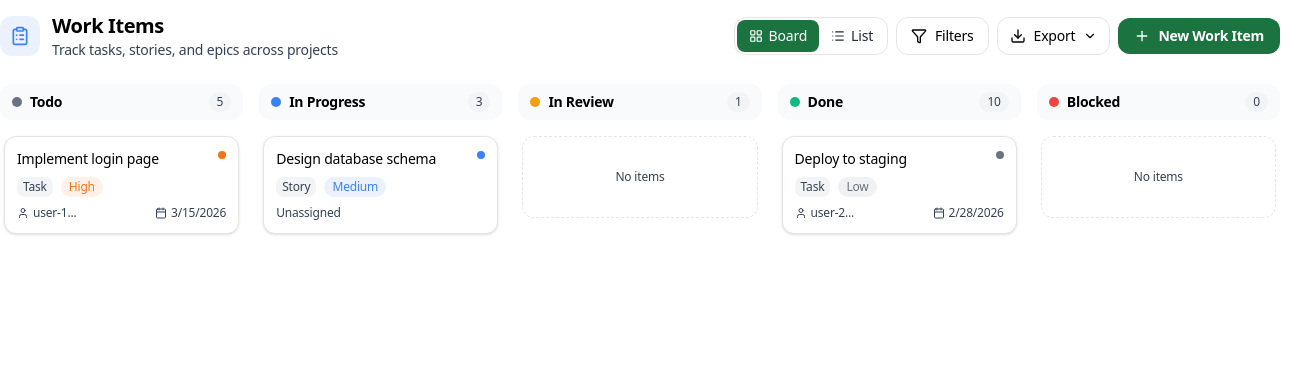
Test case: WorkItemsPage › filters › toggles filter panel when Filters button is clicked
Expected: the text "Priority" is not shown
Note: Click Filters
Click the button "Filters" at (942, 36), box [896, 17, 988, 55]
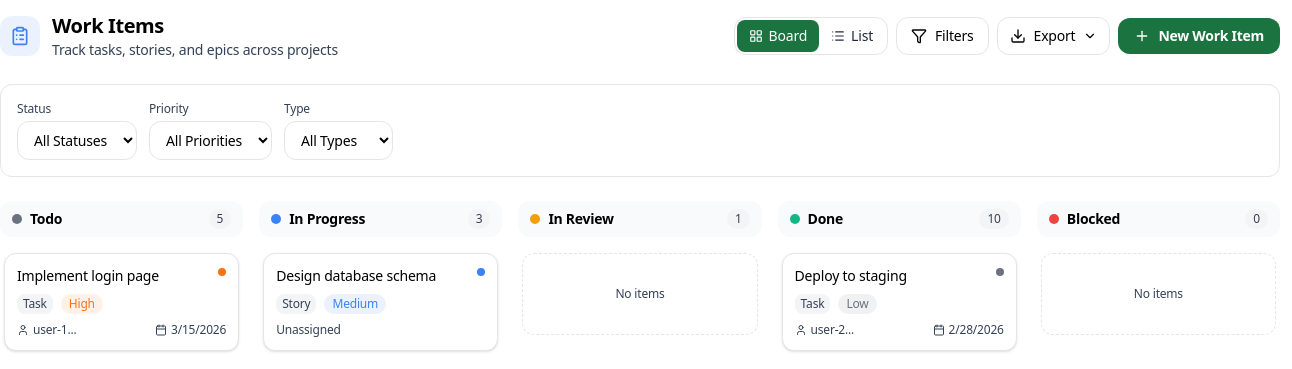
Expected: the text "Status" is shown, [17, 100, 51, 117]
Expected: the text "Priority" is shown, [149, 100, 188, 117]
Expected: the text "Type" is shown, [284, 100, 310, 117]
